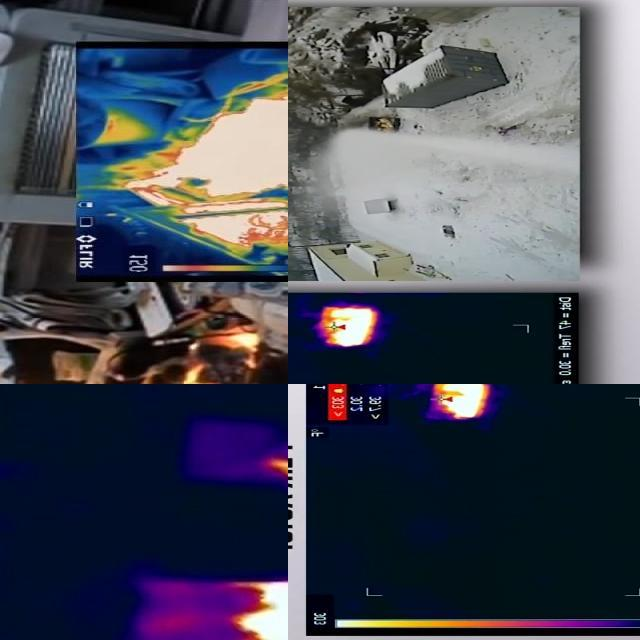fire: (110, 94, 289, 253), (221, 580, 289, 640), (317, 306, 380, 349), (429, 385, 491, 420), (264, 439, 289, 487)
